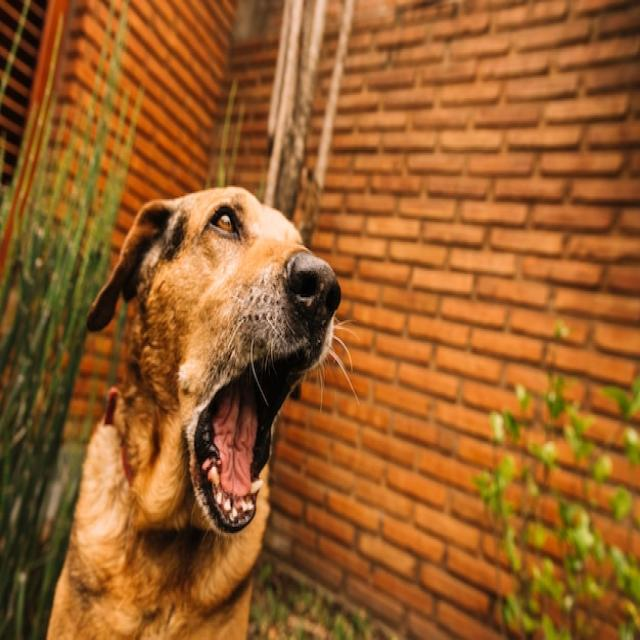Dog: (48, 188, 344, 640)
